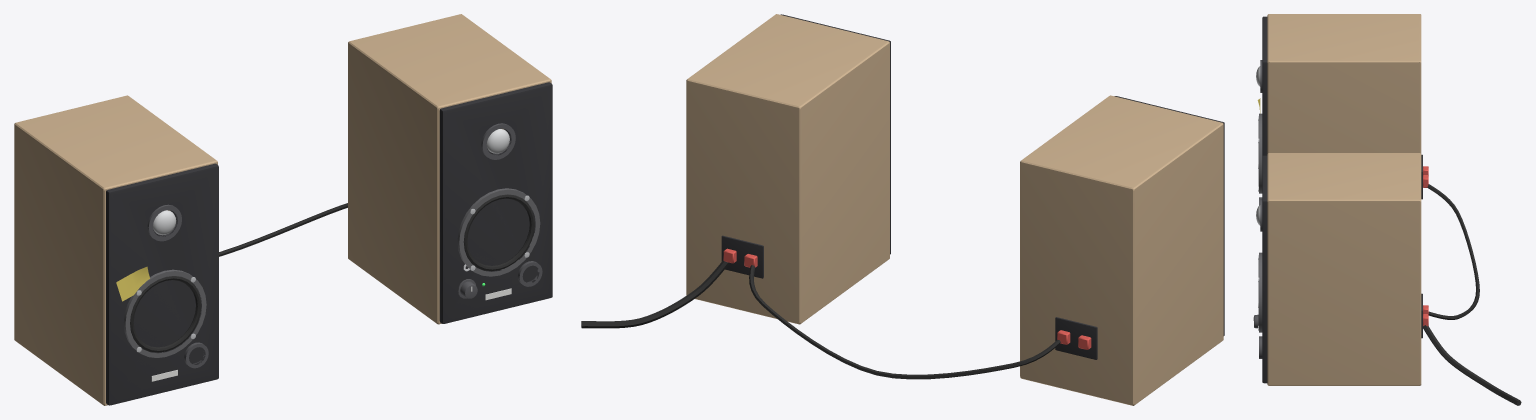
File: electronics_speakers_pair_desk.fbx
The picture shows the model from 3 angles, left to right: view 1: azimuth 30°, elevation 25°; view 2: azimuth 150°, elevation 25°; view 3: azimuth 270°, elevation 25°; orthographic projection. The views are drawn at different scales.
Visible parts, largest first — view 1: electronics_speakers_pair_desk; view 2: electronics_speakers_pair_desk; view 3: electronics_speakers_pair_desk.
Boxes of the visible parts, x1,y1,x2,y2 form: electronics_speakers_pair_desk: (14,14,552,405); electronics_speakers_pair_desk: (581,14,1224,405); electronics_speakers_pair_desk: (1253,14,1521,405).
Size of the model in its own units: 0.4767 by 0.203 by 0.261.
